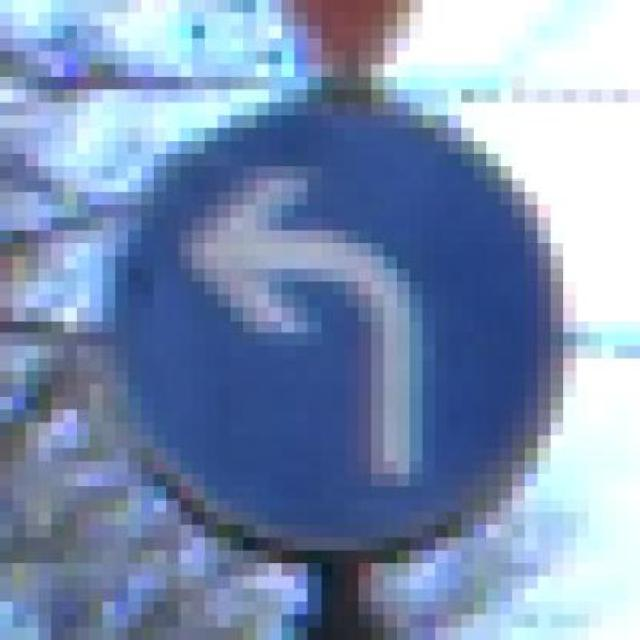Turn left ahead: (102, 77, 576, 589)
